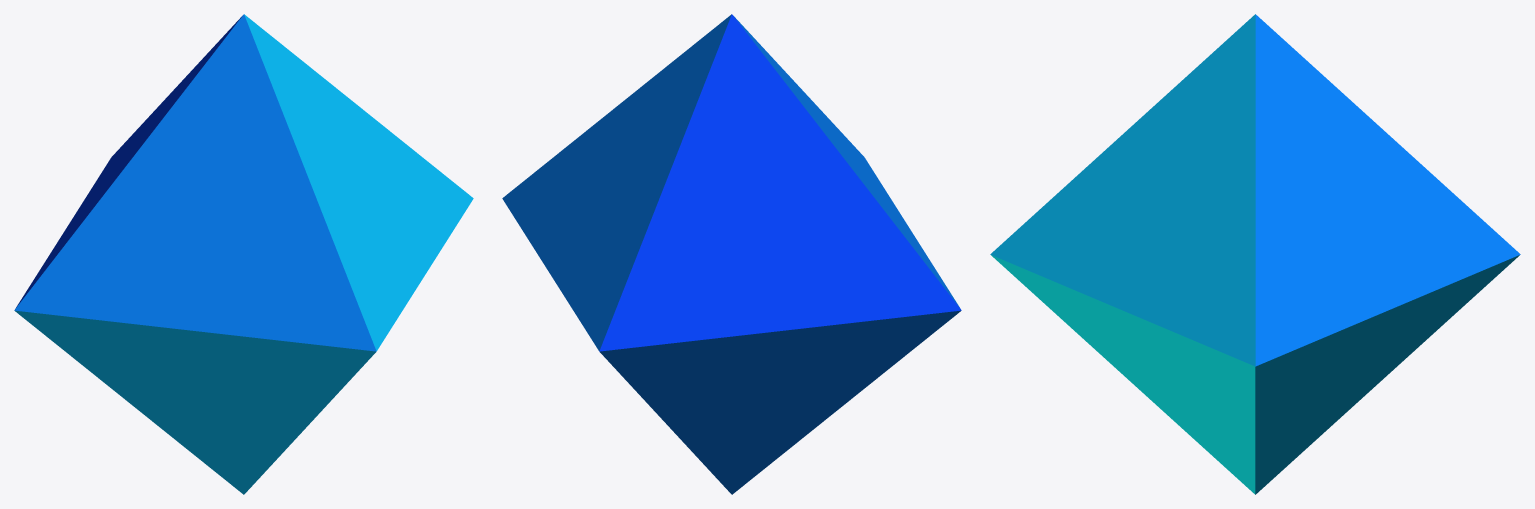
3 renders of one model, left to right at view 1: azimuth 30°, elevation 25°; view 2: azimuth 150°, elevation 25°; view 3: azimuth 270°, elevation 25°, orthographic.
Parts seen in each view (by area): view 1: the_node (×4); view 2: the_node (×4); view 3: the_node (×3).
Boxes of the visible parts, <box> form: the_node (×4): <box>14,14,473,494</box>; the_node (×4): <box>502,14,961,494</box>; the_node (×3): <box>990,14,1520,494</box>.
Bounding box in the file's own units: 256 × 256 × 256.
